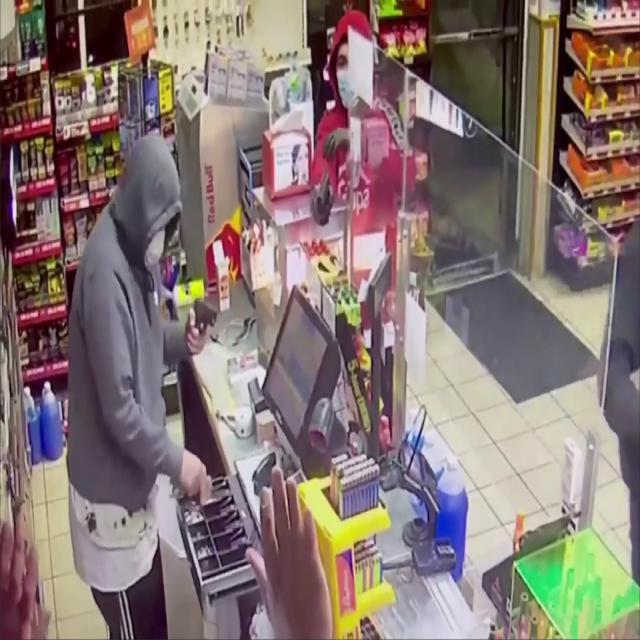weapon: (312, 171, 334, 227), (189, 297, 218, 337)
